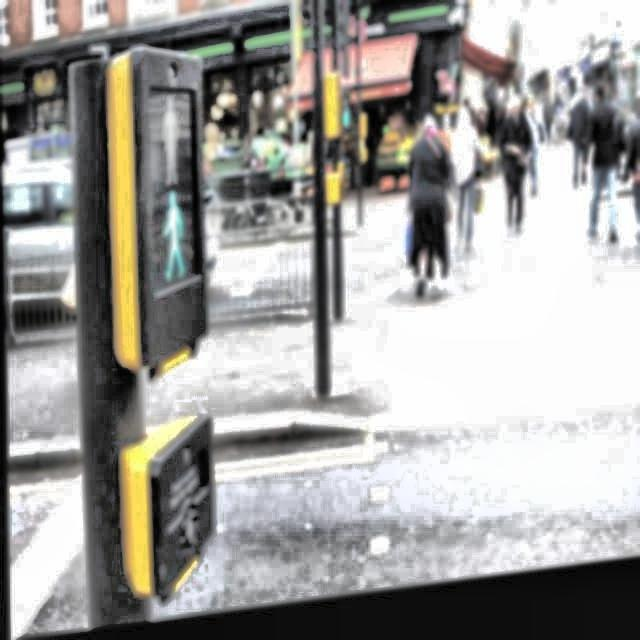semaforo pedestre: (50, 0, 294, 415)
